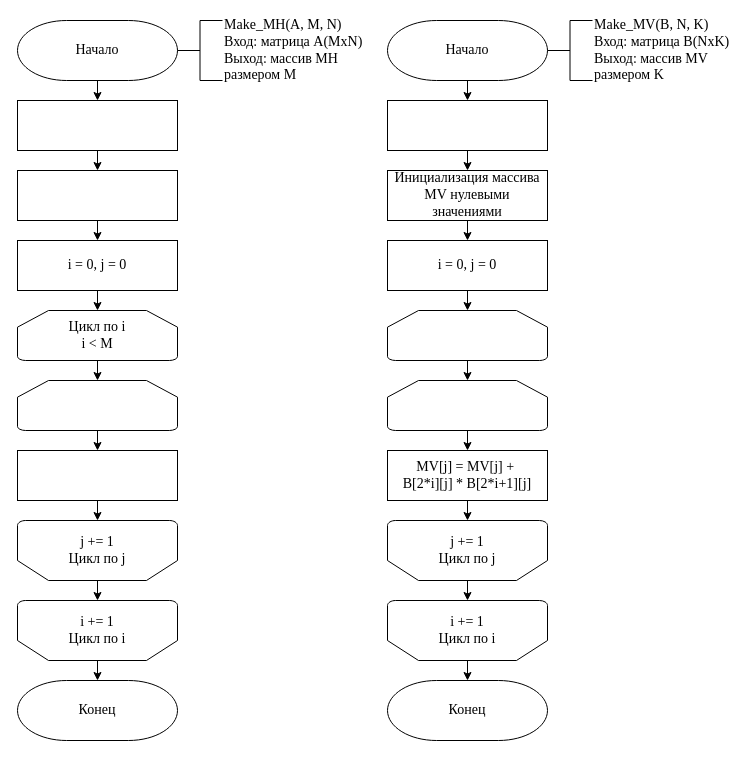
This 747x758 diagram has some shape labels left out. Here are the shapes that lost their labels. From the top down, the centre of each, then its label:
the point at 97,125: Создание массива MH размером M
the point at 467,125: Создание массива MV размером K
the point at 97,195: Инициализация массива MH нулевыми значениями
the point at 467,335: Цикл по i i < N / 2
the point at 97,405: Цикл по j j < N / 2
the point at 467,405: Цикл по j j < K
the point at 97,475: MH[i] = MH[i] + A[i][2*j] * A[i][2*j+1]
